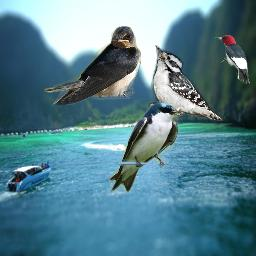Swallow: (43, 26, 141, 105), (108, 101, 178, 193)
Woodpecker: (147, 45, 223, 121), (214, 35, 251, 84)
